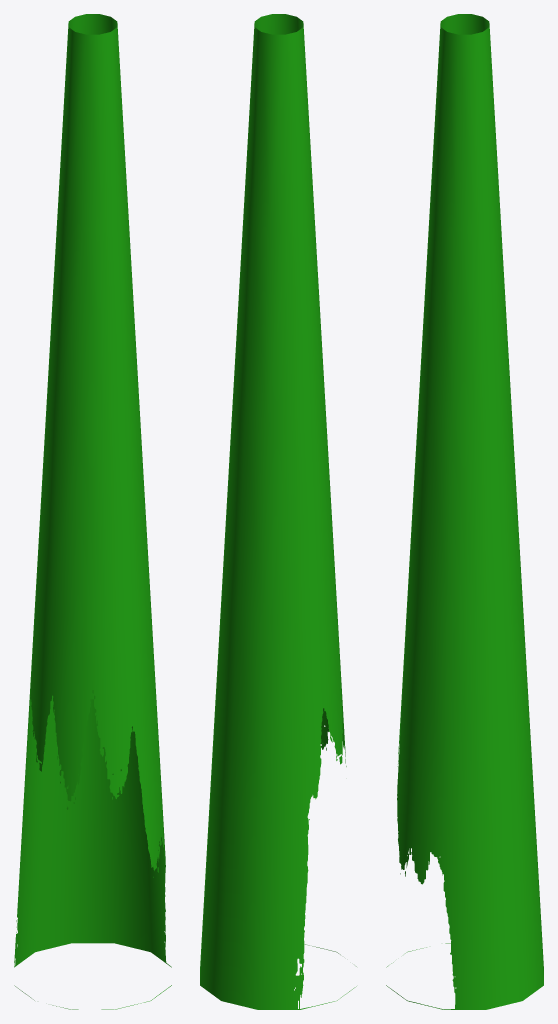
Rendered from rays 1.FBX.
3 renders of one model, left to right at view 1: azimuth 30°, elevation 25°; view 2: azimuth 150°, elevation 25°; view 3: azimuth 270°, elevation 25°, orthographic.
Visible parts, largest first — view 1: Cone001; view 2: Cone001; view 3: Cone001.
Part boxes in pixels (x1=…): Cone001: x1=14, y1=14, x2=171, y2=1009; Cone001: x1=200, y1=14, x2=356, y2=1009; Cone001: x1=386, y1=14, x2=543, y2=1009.
Bounding box in the file's own units: 44.05 × 293 × 44.05.
